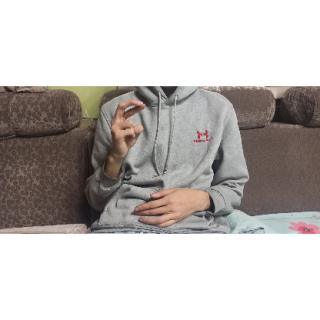ZAY: (105, 96, 149, 157)
